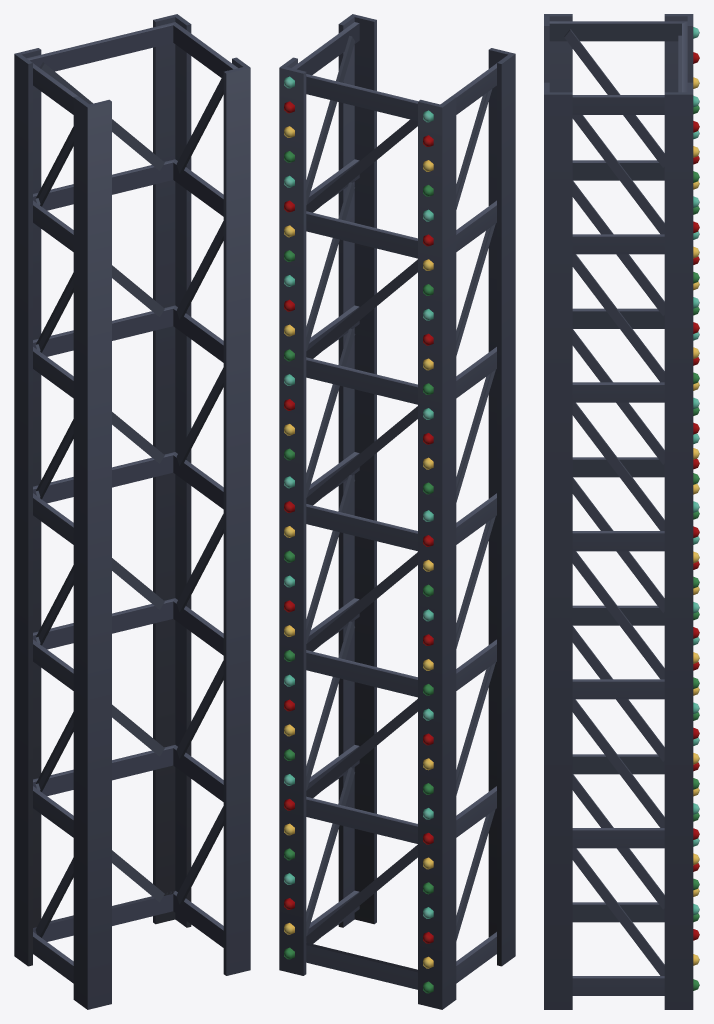
Rendered from squidgame_props_frame2.fbx.
The picture shows the model from 3 angles, left to right: view 1: azimuth 30°, elevation 25°; view 2: azimuth 150°, elevation 25°; view 3: azimuth 270°, elevation 25°; orthographic projection.
Visible parts, largest first — view 1: squidgame_props_frame2; view 2: squidgame_props_frame2, squidgame_props_frame2_light; view 3: squidgame_props_frame2, squidgame_props_frame2_light.
Part boxes in pixels (<box>): squidgame_props_frame2: <box>14,14,250,1009</box>; squidgame_props_frame2: <box>279,14,515,1009</box>; squidgame_props_frame2_light: <box>284,76,433,993</box>; squidgame_props_frame2: <box>544,14,693,1009</box>; squidgame_props_frame2_light: <box>693,27,699,990</box>.
Bounding box in the file's own units: 1.42 × 7.48 × 1.15.
